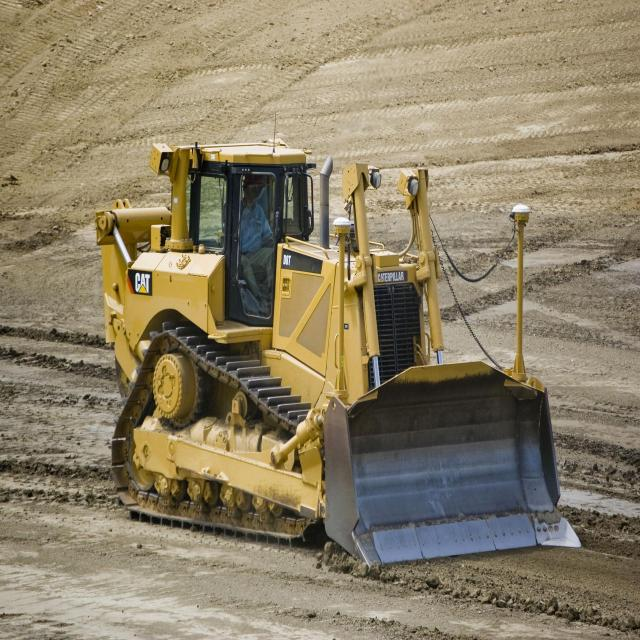Bulldozer: (49, 83, 613, 619)
